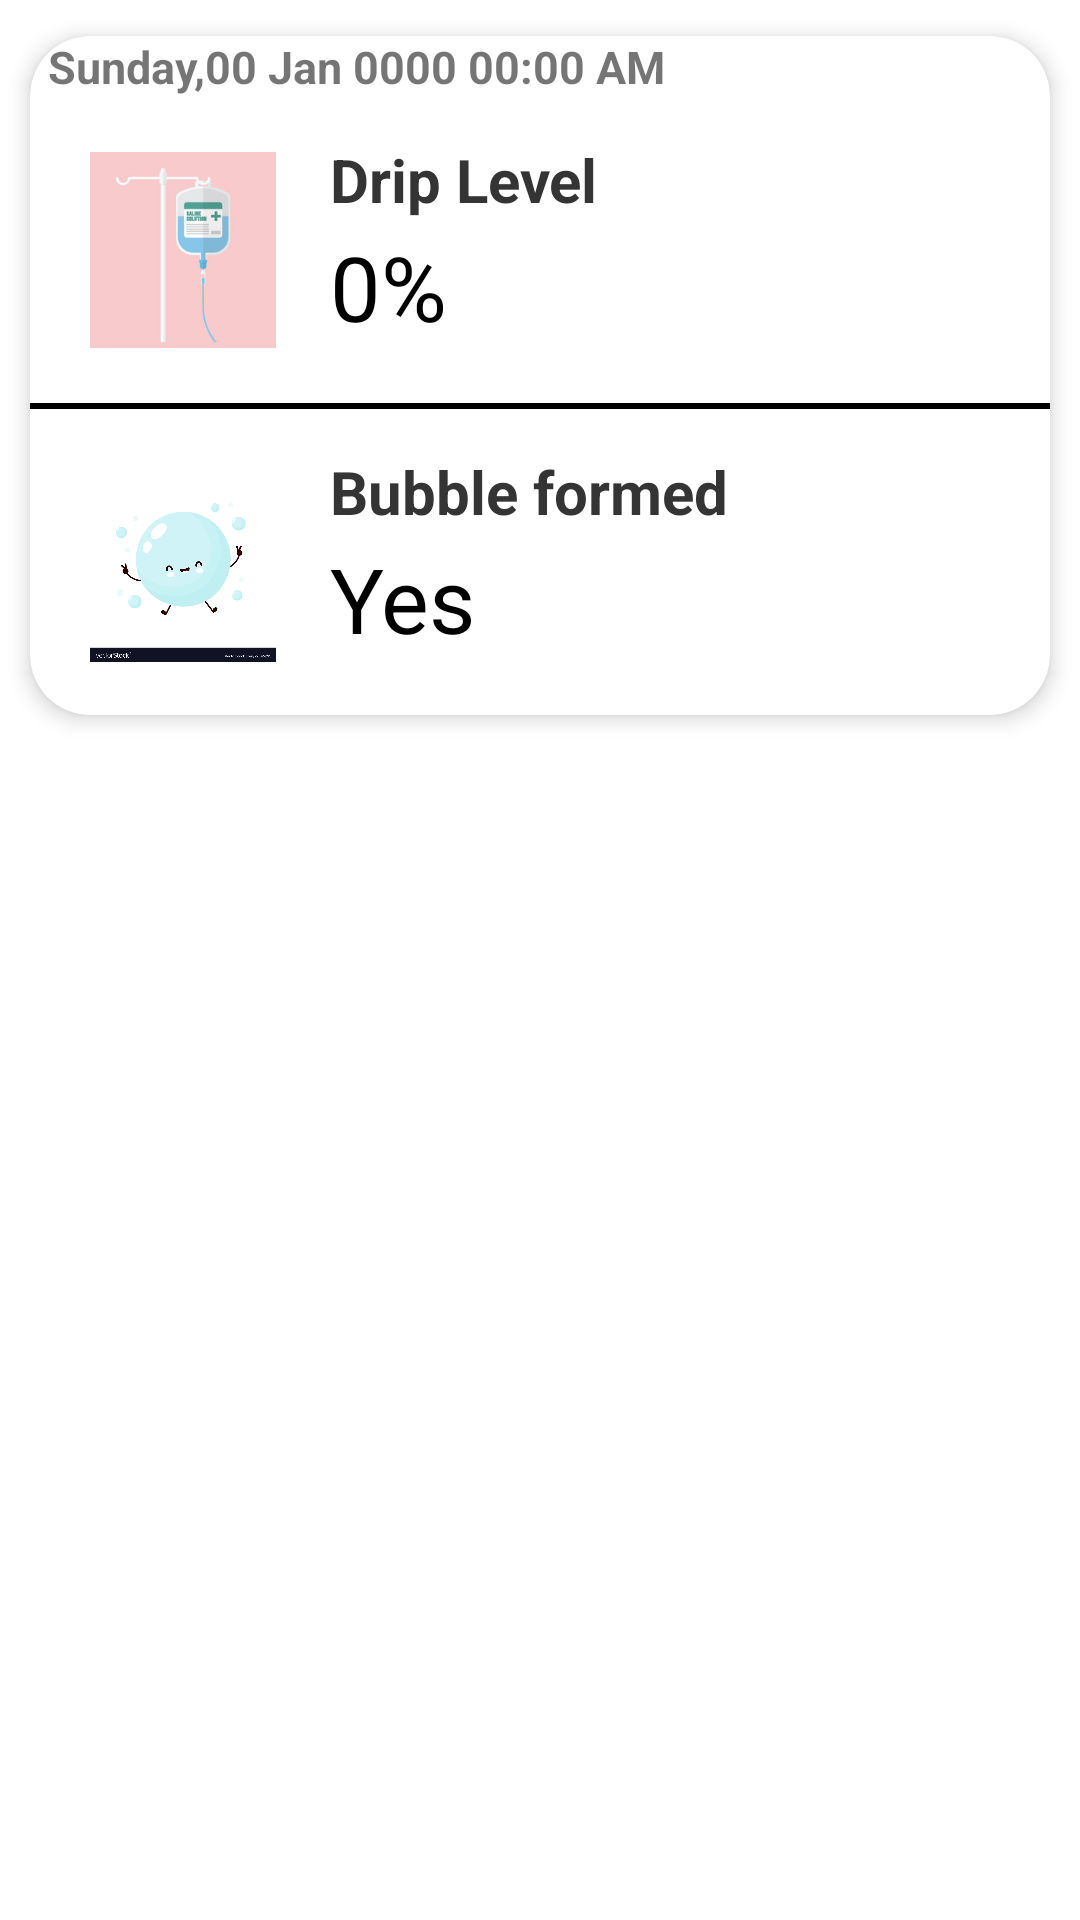

Point at icon controls on the screen. Image size 1080px×1920px, points as [x,y].
salinebag: [183,250]
